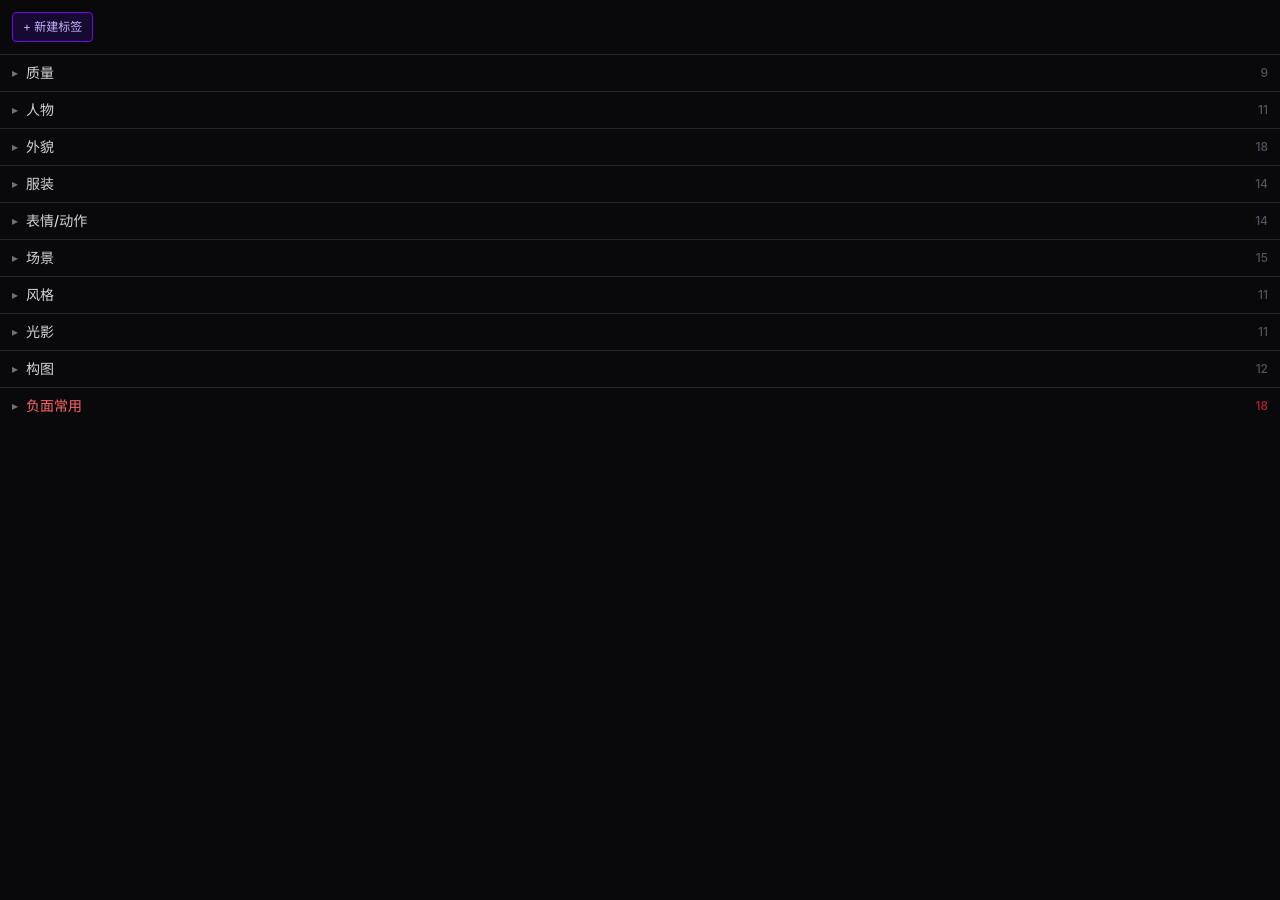
Scenario: TagLibrary custom tags › creates a custom tag and category from the tag library controls
Click the button "+ 新建标签": [53, 27] box [12,12,93,42]
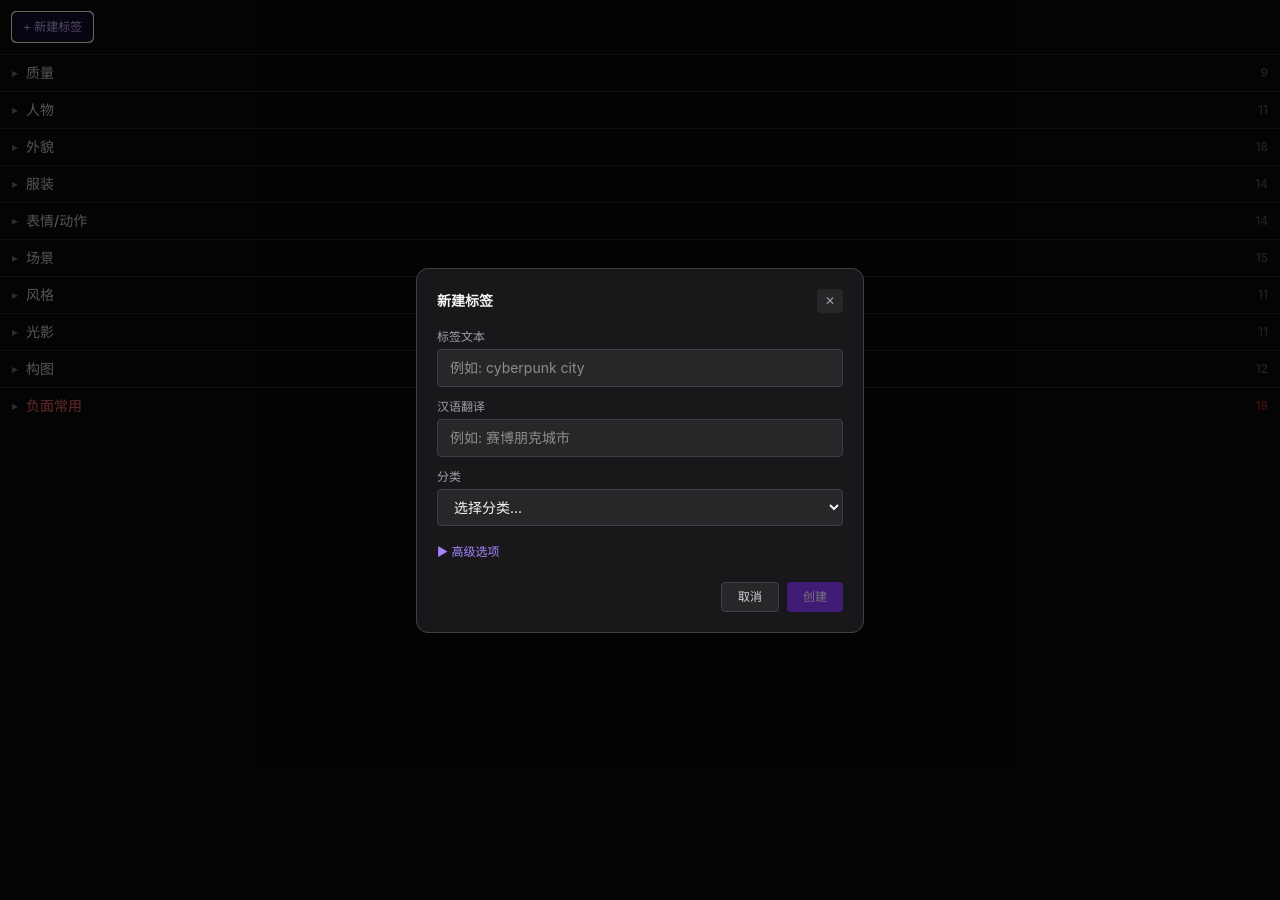
In the field labelled "标签文本": [640, 368] box [437,348,843,386], type "cyberpunk city"
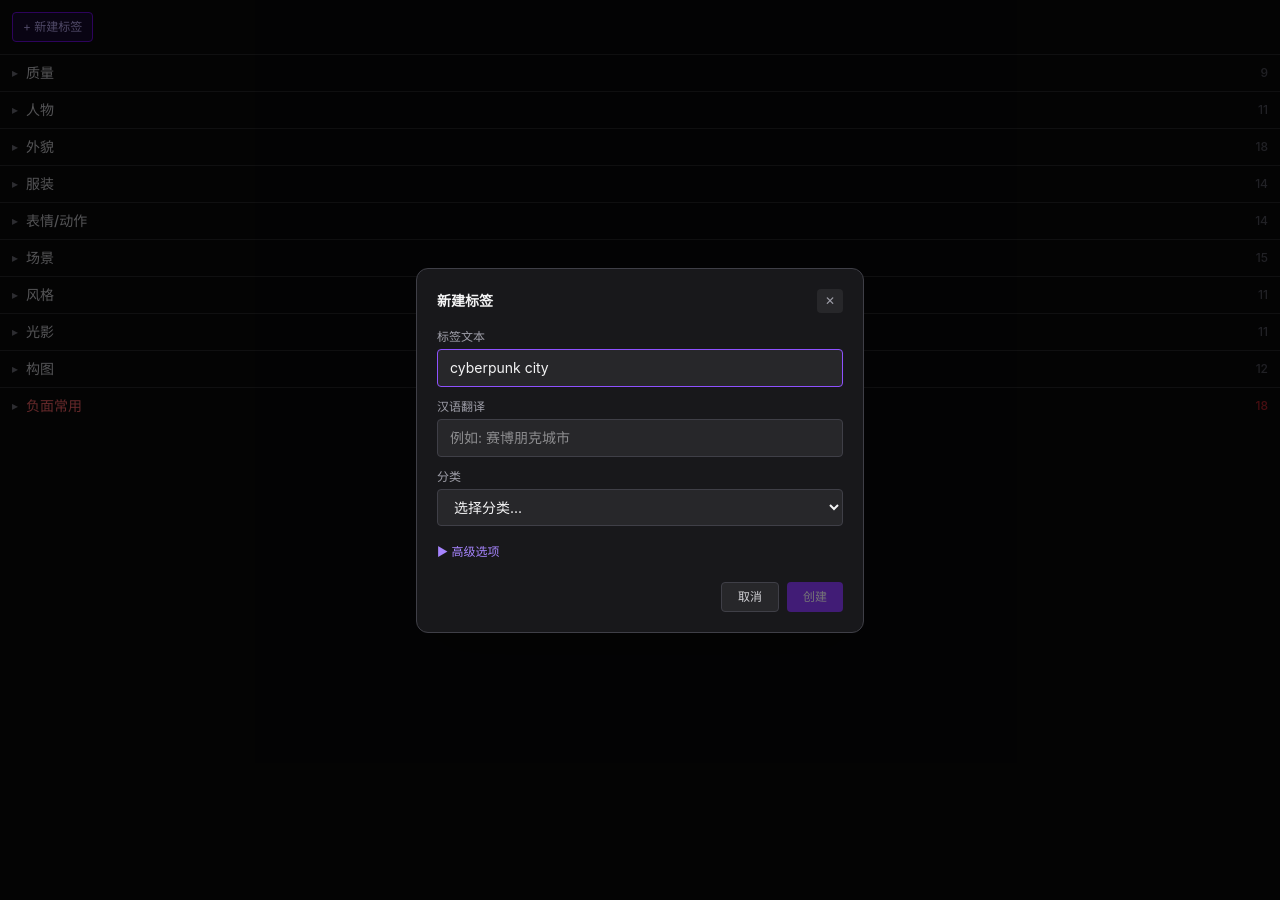
In the field labelled "汉语翻译": [640, 438] box [437,418,843,456], type "赛博朋克城市"
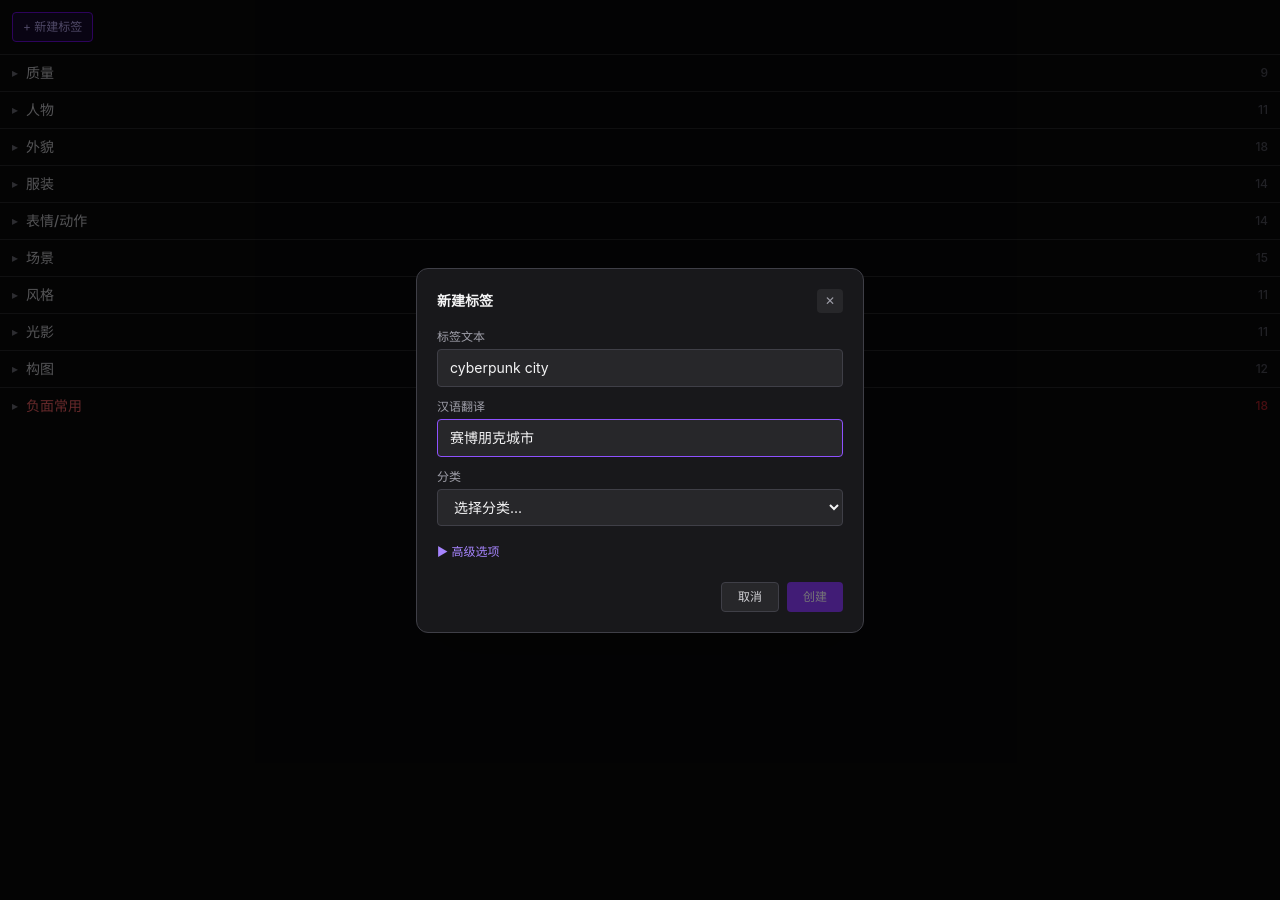
Select "新建分类..." in the dropdown labelled "分类": [640, 507] box [437,488,843,526]
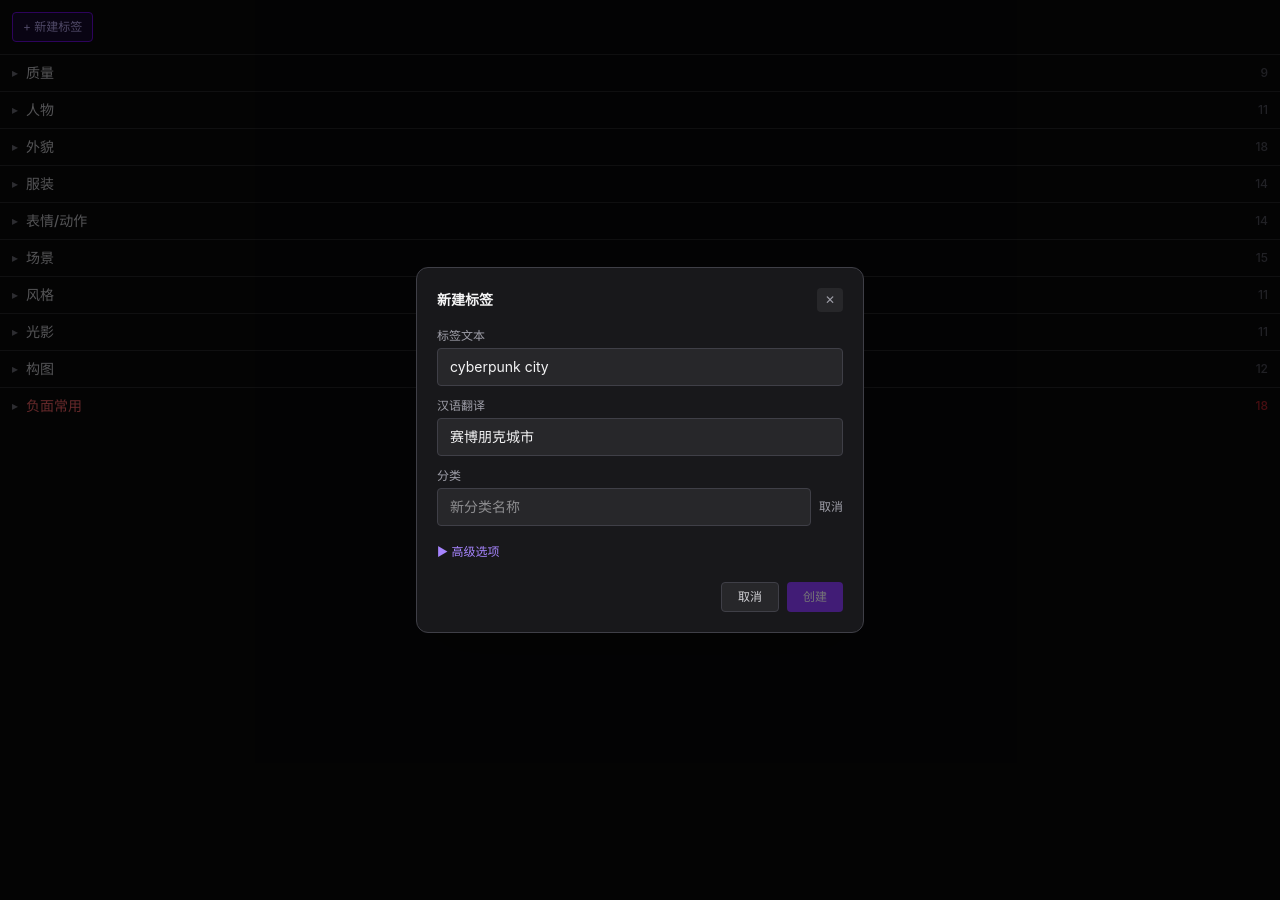
In the field labelled "新分类名称": [624, 507] box [437,488,811,526], type "夜景灵感"
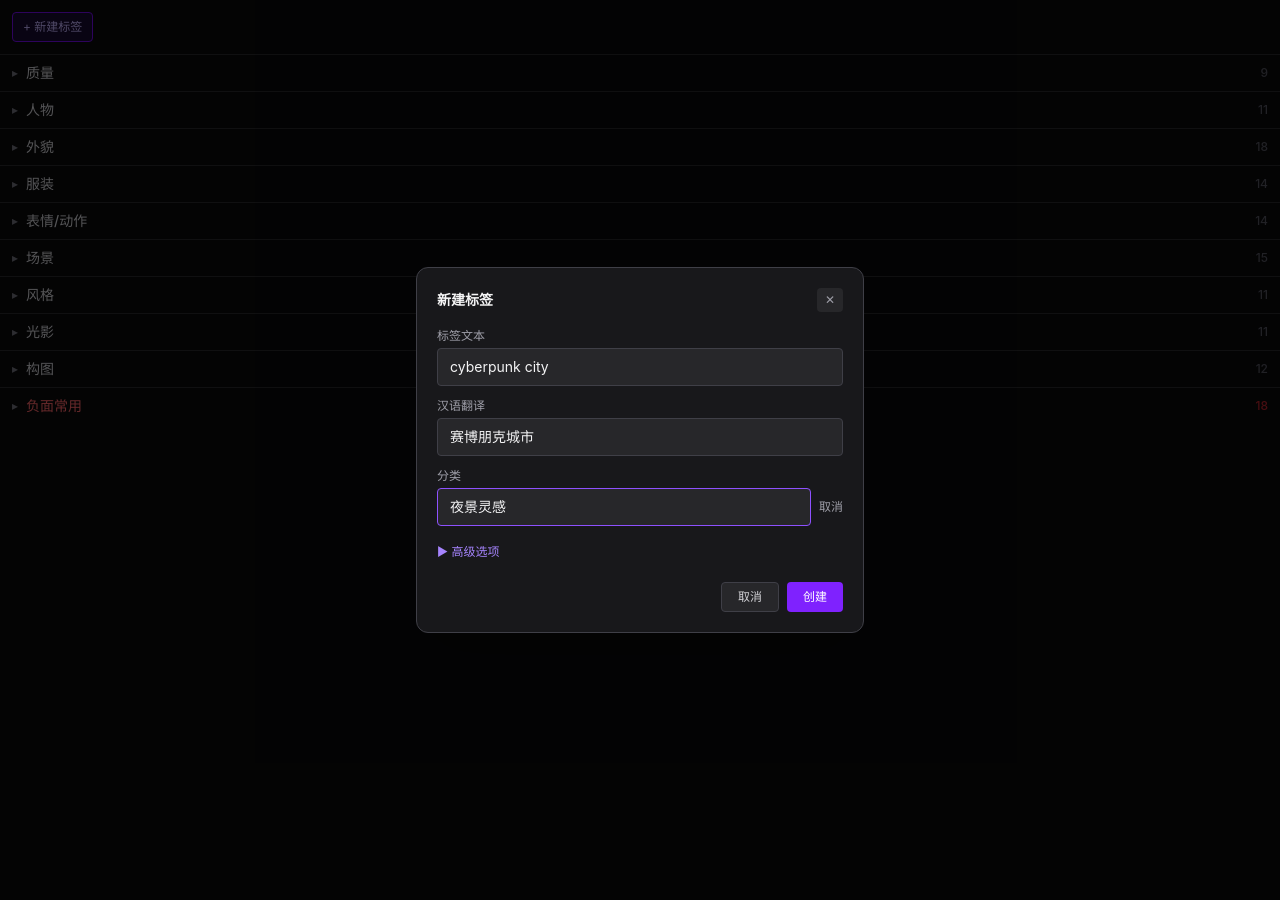
Click the button "创建": [815, 597] box [787,582,843,612]
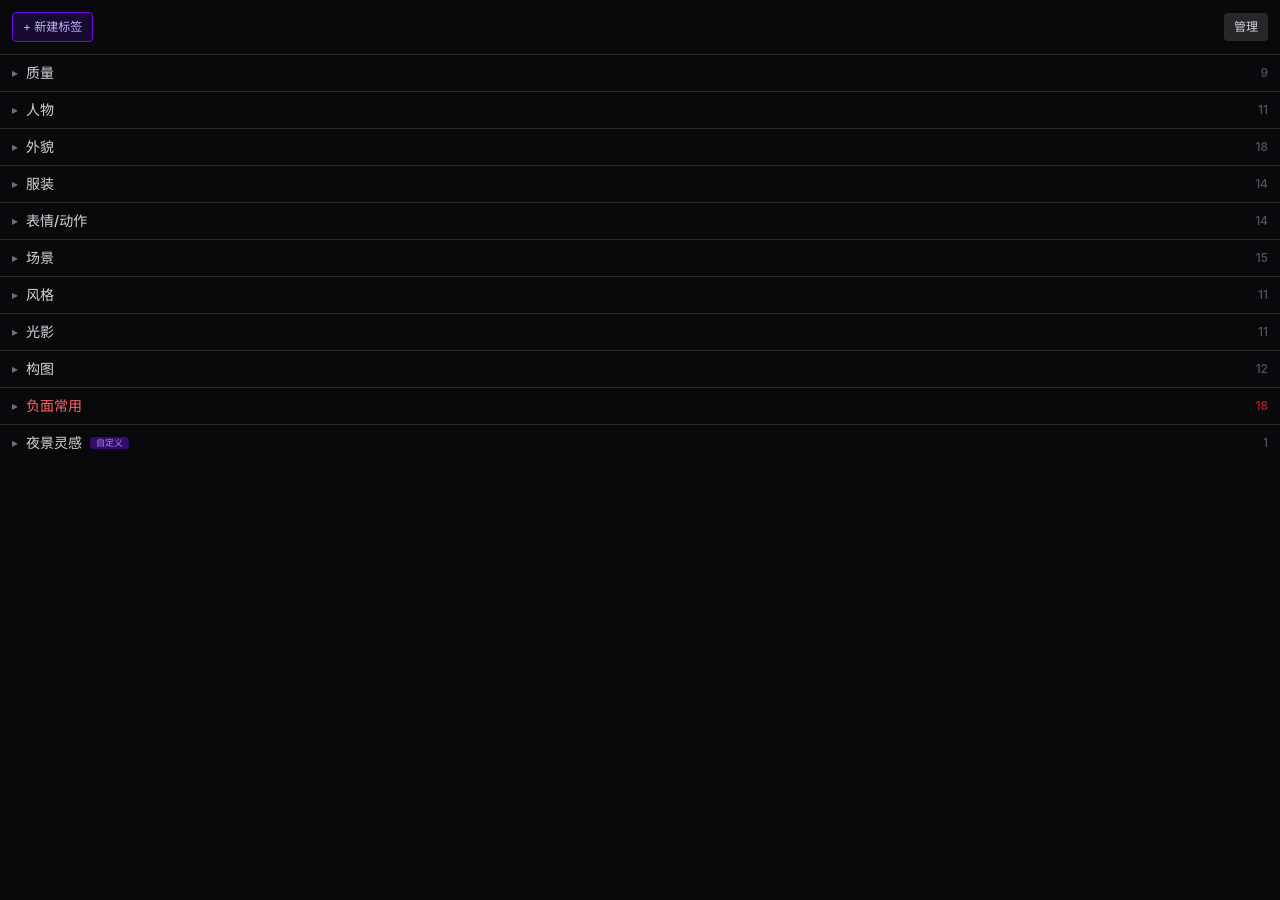
Expected: the button "▸ 夜景灵感 自定义 1" is shown, [0,425,1279,461]
